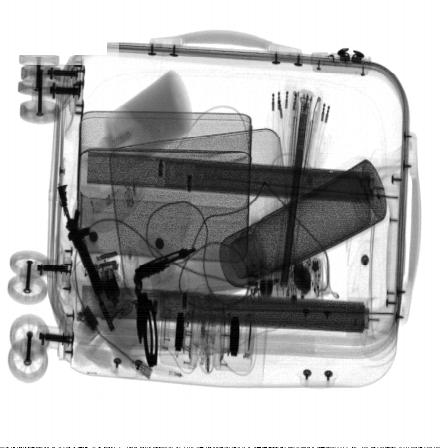Gun: (56, 182, 116, 334)
HandCuffs: (133, 248, 198, 369)
